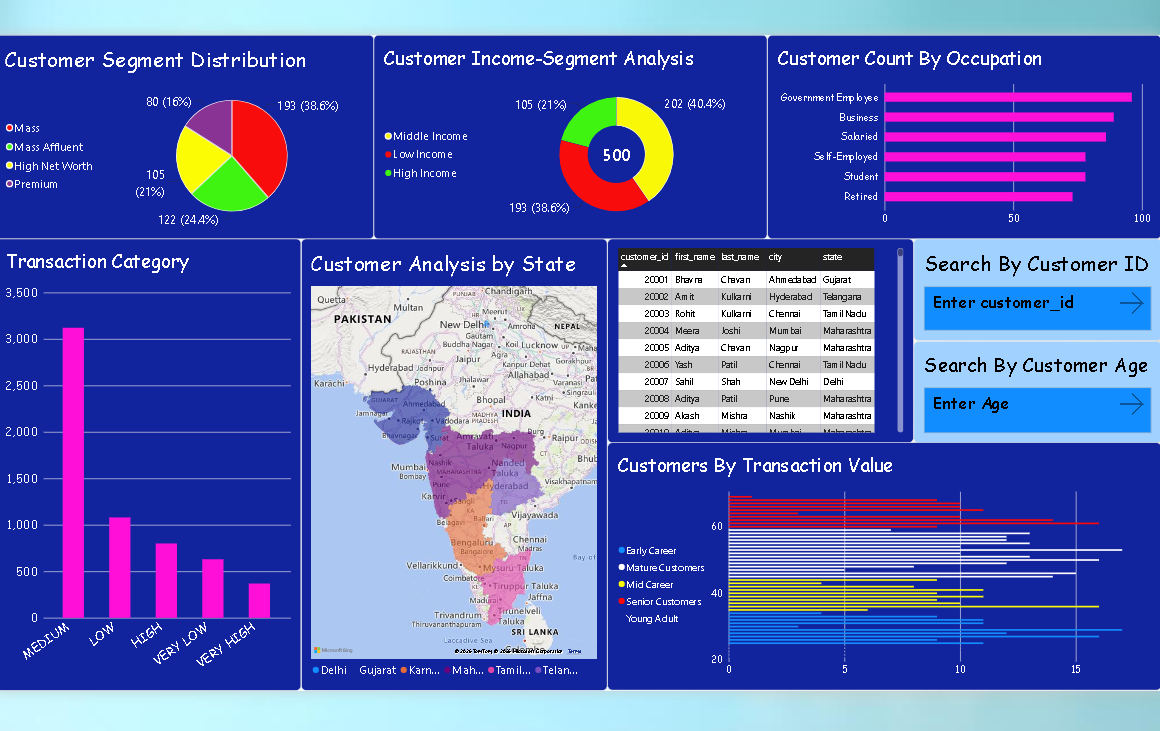

The dashboard page shown, as its layout file describes it:
{"tool":"powerbi","page":{"name":"Customer Analysis","canvas":[1920,1080],"ordinal":2},"visuals":[{"type":"pieChart","title":"Customer Segment Distribution","fields":{"Category":["customers.customer_segment"],"Y":["CountNonNull(customers.customer_segment)"]},"box":[0,0,624,336],"z":0},{"type":"filledMap","title":" Customer Analysis by State","fields":{"Series":["customers.state"],"Category":["customers.state"]},"box":[504,336,504,744],"z":1000},{"type":"donutChart","title":"Customer Income-Segment Analysis\t","fields":{"Category":["customers.Income Category"],"Y":["Count(customers.customer_id)"]},"box":[624,0,648,336],"z":2000},{"type":"columnChart","title":"Transaction Category","fields":{"Category":["transactions.Transaction_Grouping"],"Y":["Count(transactions.transaction_id)"]},"box":[0,336,504,744],"z":3000},{"type":"barChart","title":"Customer Count By Occupation","fields":{"Category":["Occupationwise_Count.occupation"],"Y":["Sum(Occupationwise_Count.Occupation_Wise_Count)"]},"box":[1272,0,648,336],"z":4000},{"type":"textSlicer","title":"Search By Customer ID","fields":{"Values":["customers.customer_id"]},"box":[1512,336,408,168],"z":5000},{"type":"textSlicer","title":"Search By Customer Age","fields":{"Values":["customers.Age"]},"box":[1512,504,408,168],"z":6000},{"type":"barChart","title":"Customers By Transaction Value","fields":{"Y":["CountNonNull(customers.Age Group Category)"],"Category":["customers.Age"],"Series":["customers.Age Group Category"]},"box":[1008,672,912,408],"z":7000},{"type":"tableEx","title":"Customers By Transaction Value","fields":{"Values":["customers.customer_id","customers.first_name","customers.last_name","customers.city","customers.state"]},"box":[1008,336,504,336],"z":8000}]}

Visuals, with their boxes on the page's 1920x1080 design canvas (x1, y1, x2, y2). These are canvas units, not pixel positions in the 1160x731 screenshot, which may show the page scaled, cropped or inside an application window:
"Customer Segment Distribution" pieChart: x1=0 y1=0 x2=624 y2=336
" Customer Analysis by State" filledMap: x1=504 y1=336 x2=1008 y2=1080
"Customer Income-Segment Analysis	" donutChart: x1=624 y1=0 x2=1272 y2=336
"Transaction Category" columnChart: x1=0 y1=336 x2=504 y2=1080
"Customer Count By Occupation" barChart: x1=1272 y1=0 x2=1920 y2=336
"Search By Customer ID" textSlicer: x1=1512 y1=336 x2=1920 y2=504
"Search By Customer Age" textSlicer: x1=1512 y1=504 x2=1920 y2=672
"Customers By Transaction Value" barChart: x1=1008 y1=672 x2=1920 y2=1080
"Customers By Transaction Value" tableEx: x1=1008 y1=336 x2=1512 y2=672
